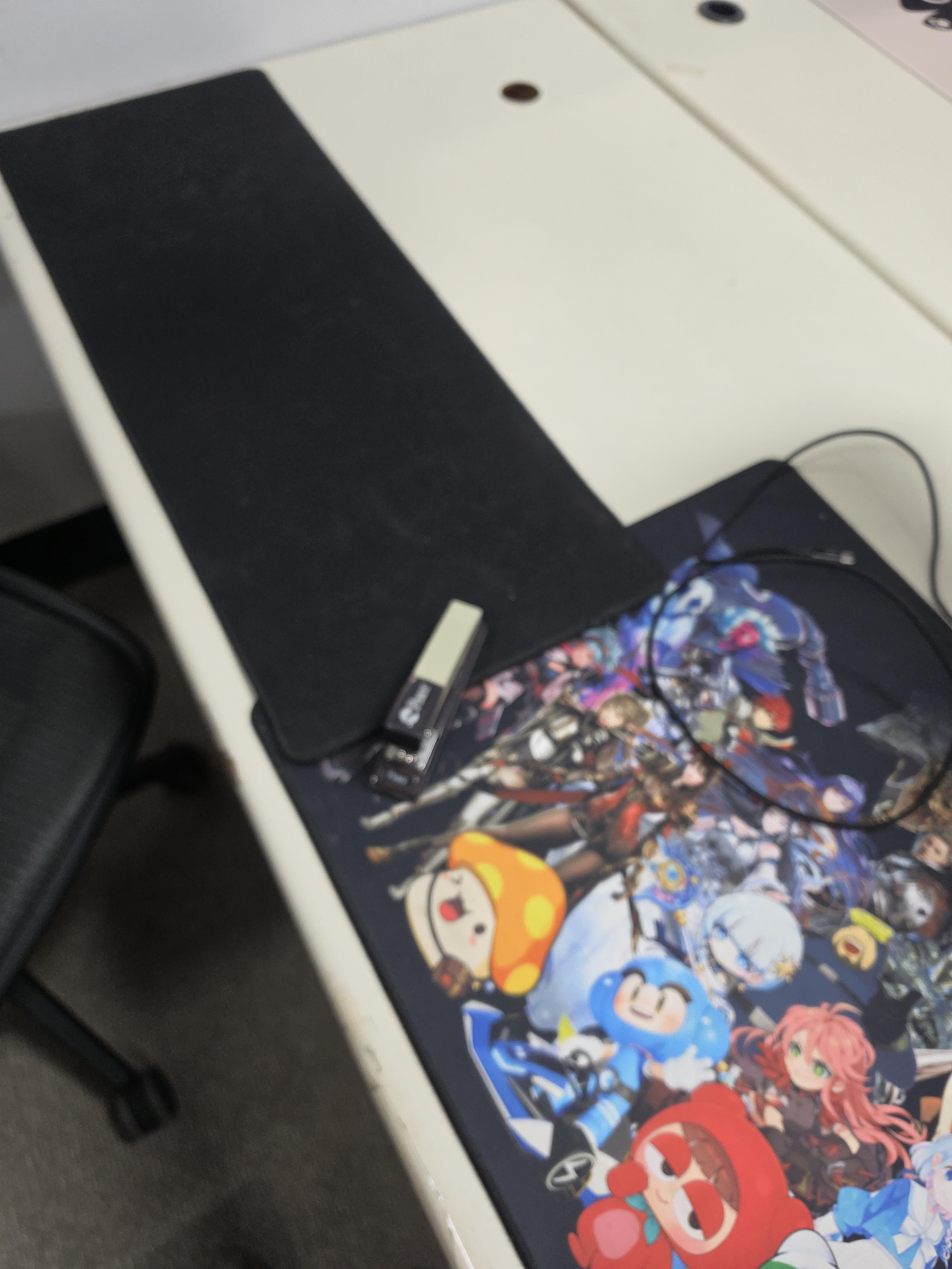stapler: (356, 598, 490, 801)
